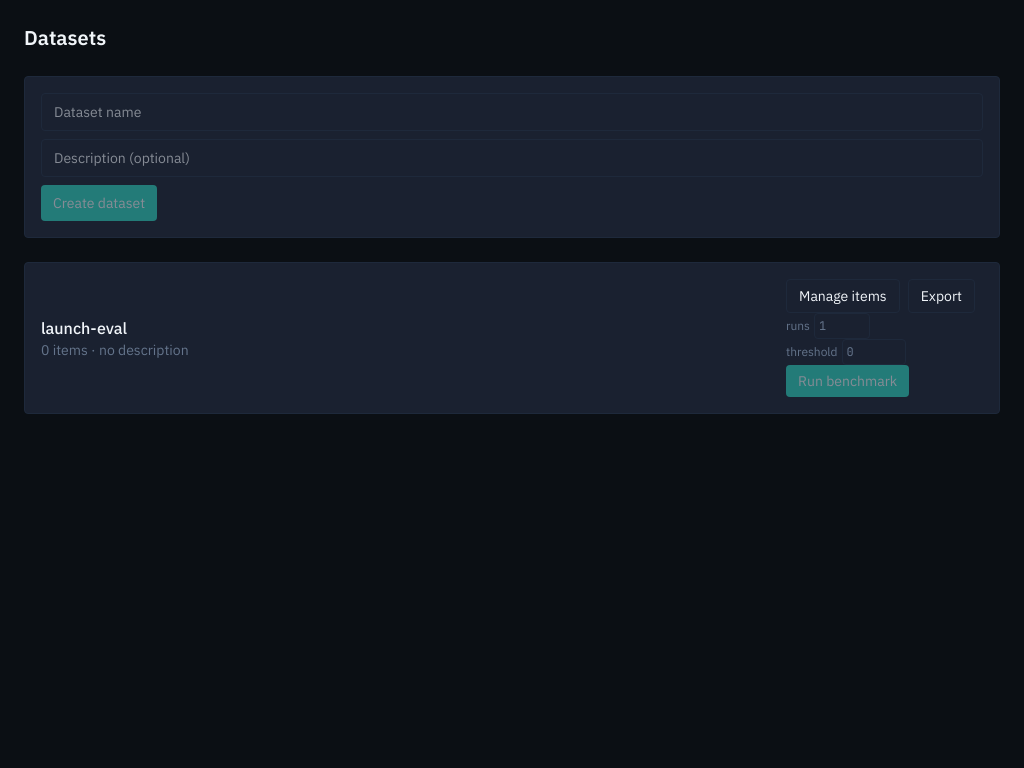
Test: Dataset page › renders datasets and runs a benchmark
Expected: the text "launch-eval" is shown, [41,318,127,338]
Click the button "Manage items" at (843,296), box [786,279,900,313]
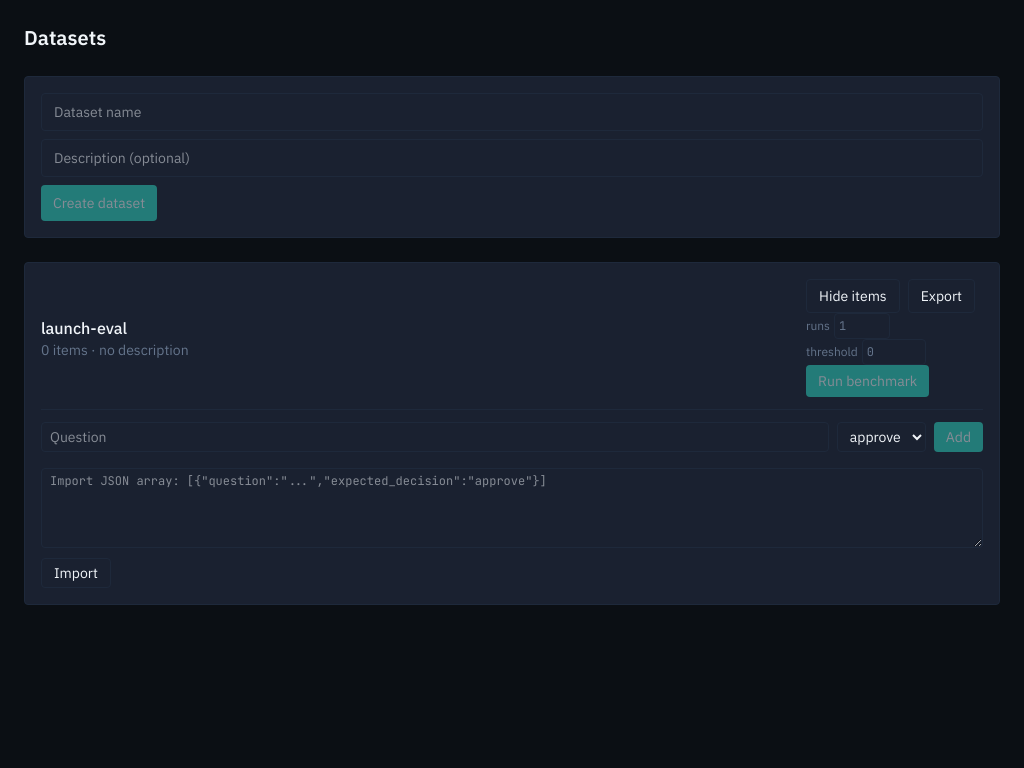
Now the field with placeholder "Question" is shown
Type "Should we adopt Rust?" into the field with placeholder "Question" at (435,437), box [41,422,829,452]
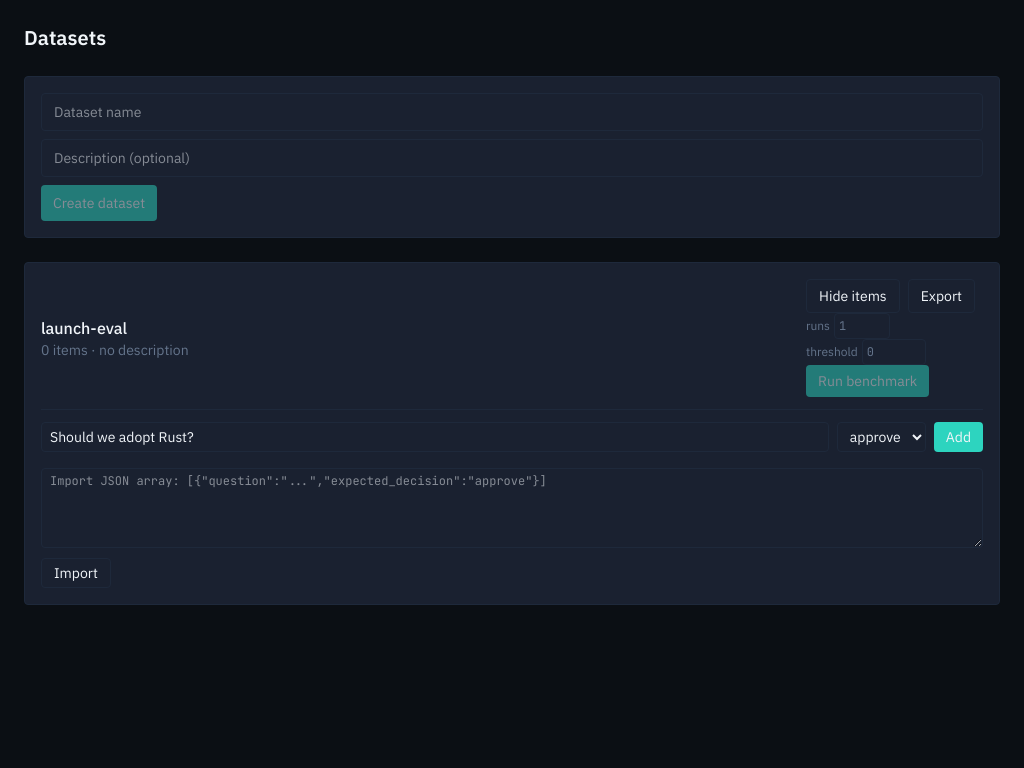
Click the button "Add" at (958,437), box [934,422,983,452]
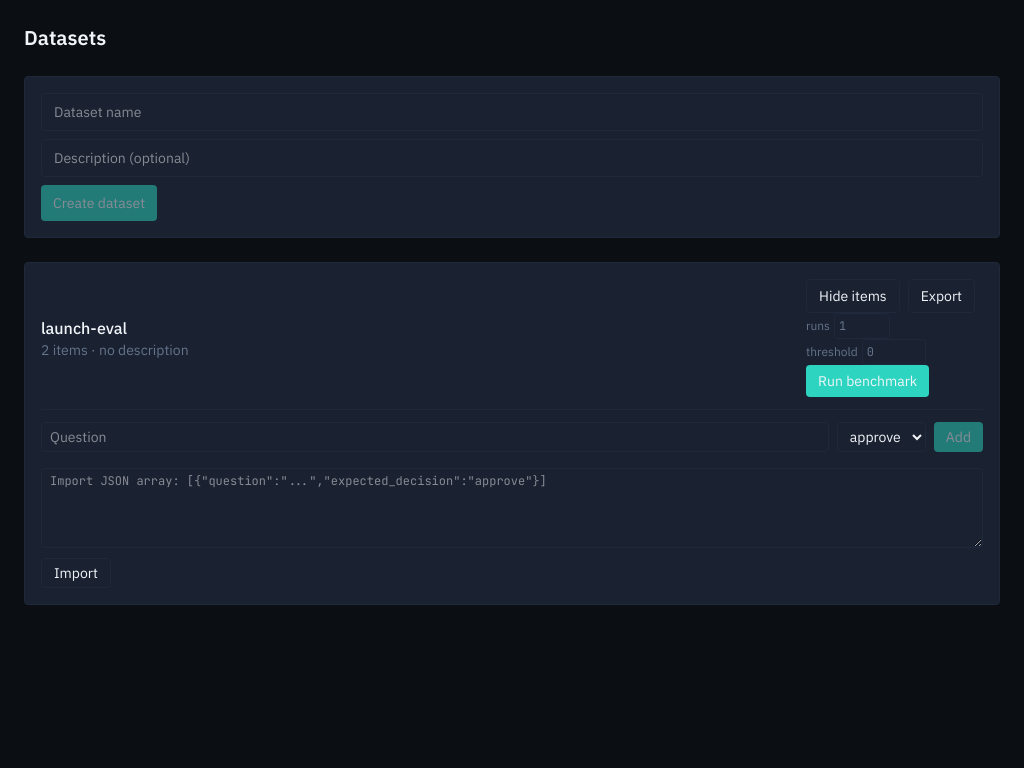
Click the button "Run benchmark" at (868,381), box [806,365,929,397]
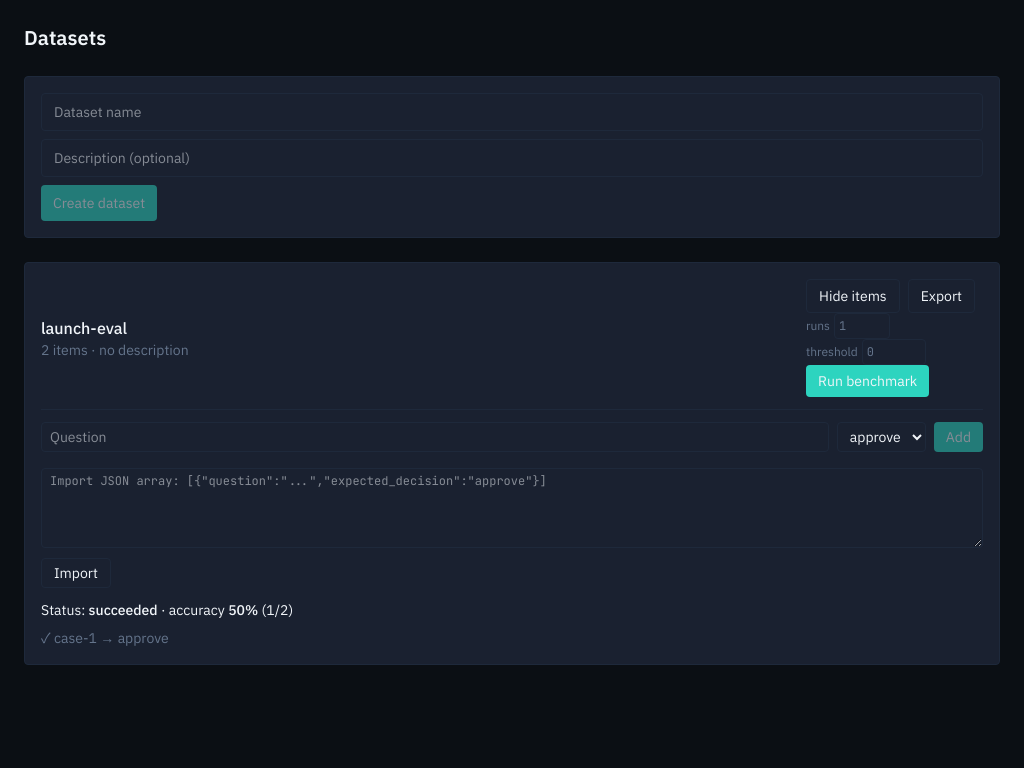
Now the text "succeeded" is shown, box [89,601,158,619]
Now the text "accuracy 50%" is shown, box [41,601,293,619]
